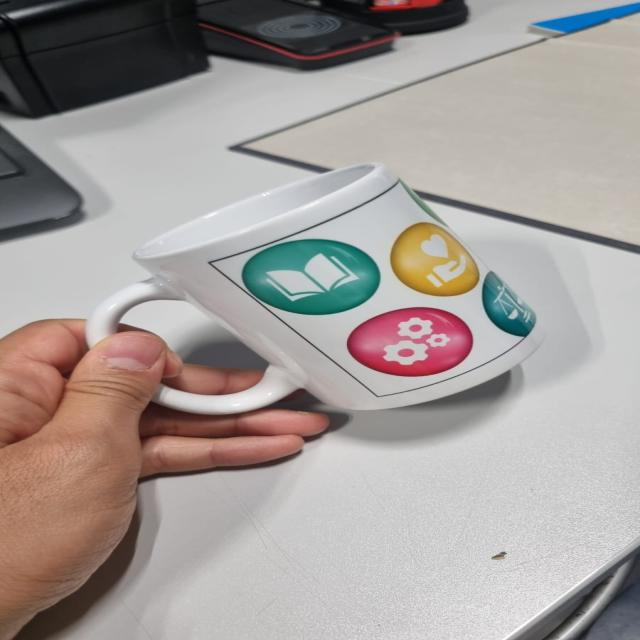Cup: (86, 164, 541, 415)
